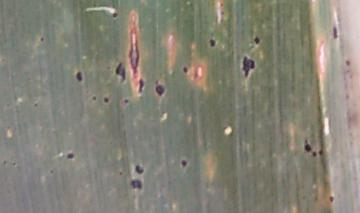tarspot: (236, 48, 258, 79), (111, 60, 131, 84), (123, 176, 151, 191), (151, 78, 166, 101), (134, 75, 146, 99), (72, 68, 87, 86), (177, 155, 192, 173), (133, 160, 146, 177), (63, 149, 77, 163), (301, 139, 313, 154), (107, 8, 122, 20), (207, 34, 217, 51), (100, 93, 112, 106), (251, 33, 263, 45), (90, 93, 100, 106), (37, 34, 47, 45), (180, 65, 191, 75), (29, 100, 41, 109), (316, 148, 325, 158), (121, 96, 131, 104)
